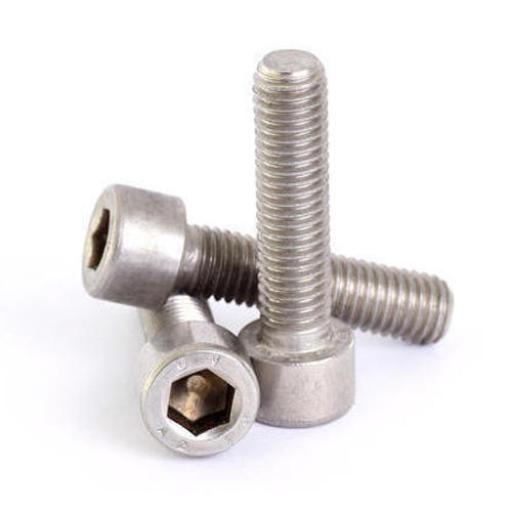Hex-Allen: (135, 326, 260, 461)
